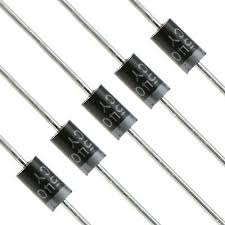diode: (8, 146, 82, 216), (42, 109, 109, 181), (83, 81, 144, 144), (152, 21, 211, 80), (115, 58, 174, 112)
